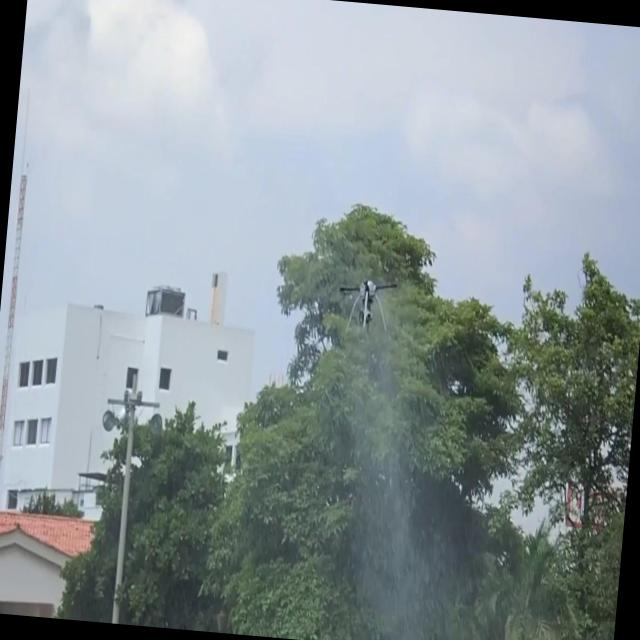drone: (334, 273, 402, 339)
